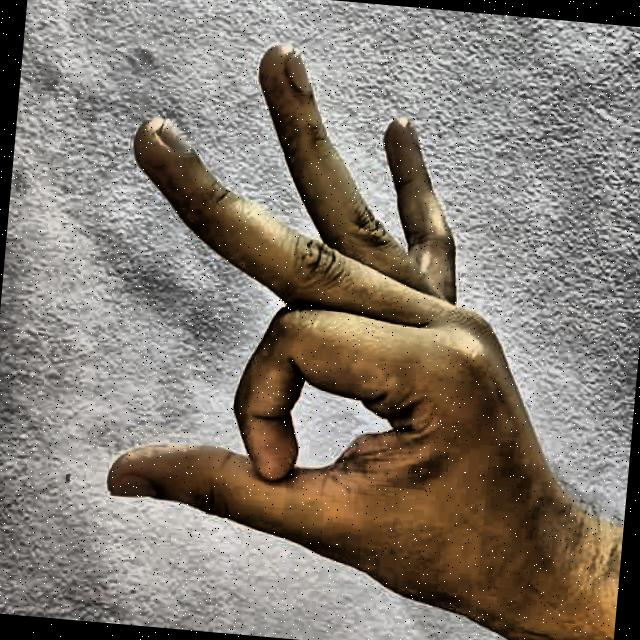Uo: (29, 0, 617, 640)
